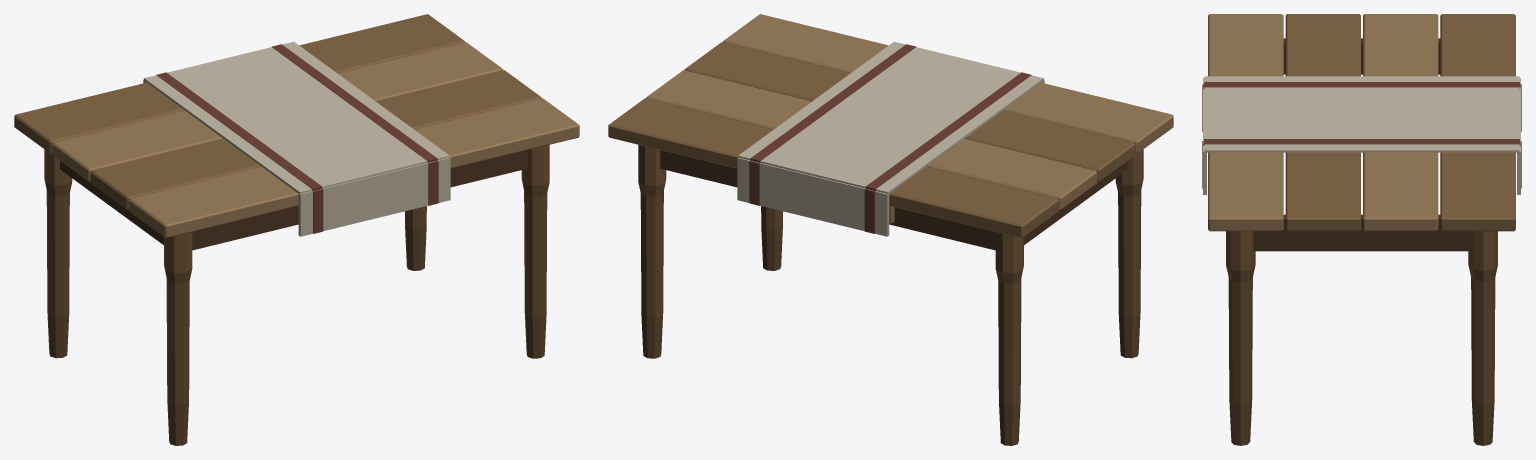
Rendered from prop_table.glb.
3 renders of one model, left to right at view 1: azimuth 30°, elevation 25°; view 2: azimuth 150°, elevation 25°; view 3: azimuth 270°, elevation 25°, orthographic.
Visible parts, largest first — view 1: prop_table; view 2: prop_table; view 3: prop_table.
Part boxes in pixels (left/top/right/bottom): prop_table: left=14, top=14, right=579, bottom=445; prop_table: left=608, top=14, right=1173, bottom=445; prop_table: left=1202, top=14, right=1521, bottom=445.
Size of the model in its own units: 1.44 by 0.789 by 0.948.
